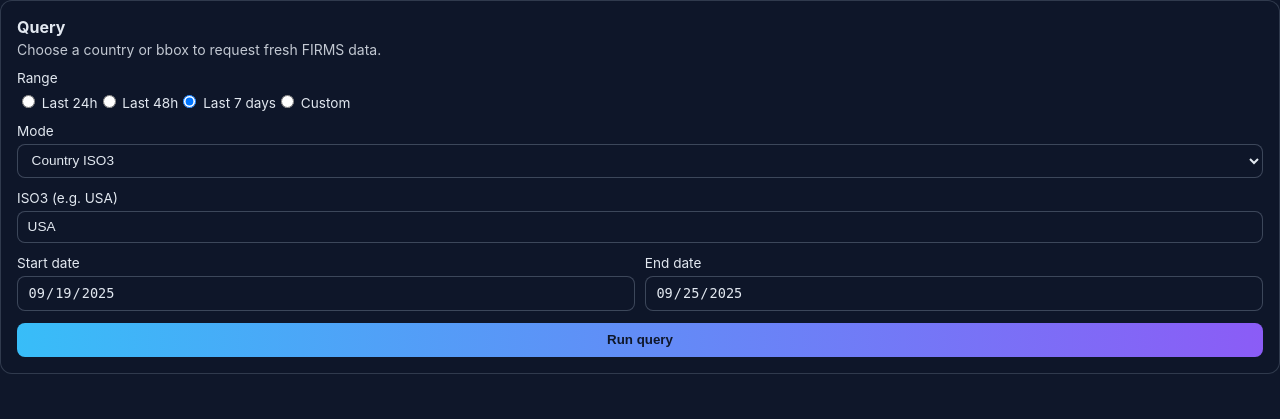
Test case: QueryPanel › validates required country code
Clear the field labelled "ISO3 (e.g. USA)": (640, 227) left=17, top=211, right=1263, bottom=243
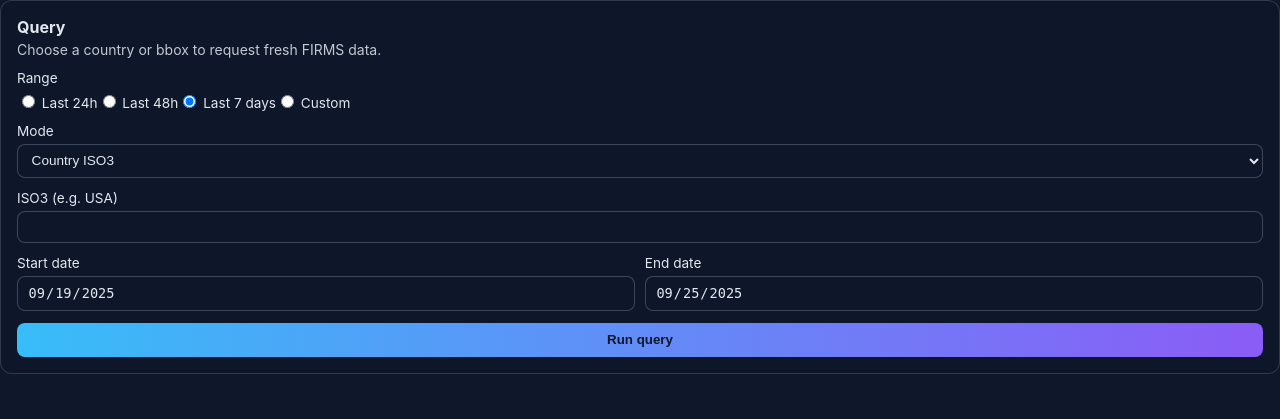
Submit the form with test id "query-form"
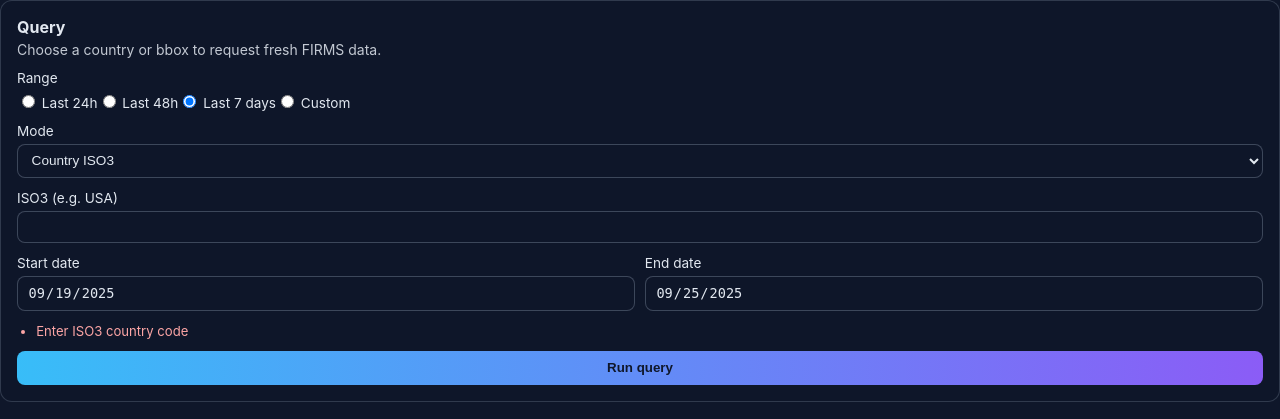
Expected: the list item "Enter ISO3 country code" is shown, left=36, top=322, right=188, bottom=338
